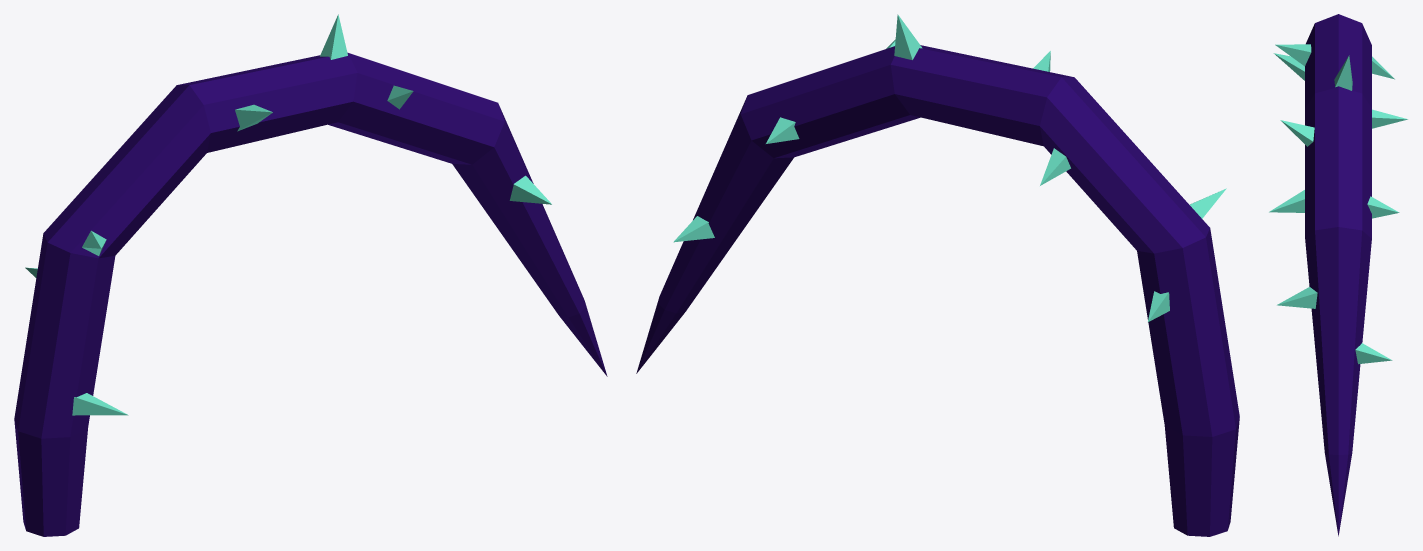
Rendered from Plant001.fbx.
3 renders of one model, left to right at view 1: azimuth 30°, elevation 25°; view 2: azimuth 150°, elevation 25°; view 3: azimuth 270°, elevation 25°, orthographic. The views are drawn at different scales.
Parts seen in each view (by area): view 1: Plant001; view 2: Plant001; view 3: Plant001.
Boxes of the visible parts, left/top/right/bottom form: Plant001: left=14, top=14, right=607, bottom=536; Plant001: left=636, top=14, right=1239, bottom=536; Plant001: left=1269, top=14, right=1407, bottom=536.
Bounding box in the file's own units: 1.83 × 1.29 × 0.4307.
